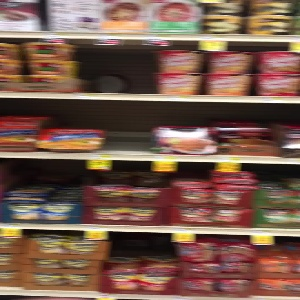void: (78, 43, 157, 96), (97, 99, 151, 155)
